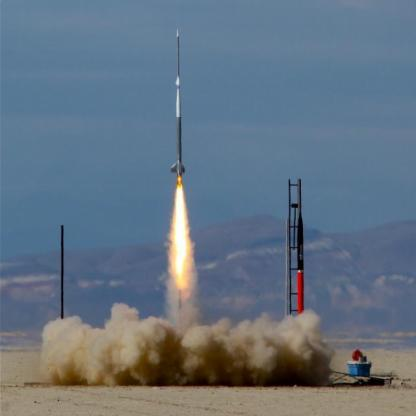MIL_TBM: (169, 28, 188, 178), (296, 210, 306, 328), (58, 223, 66, 326)
